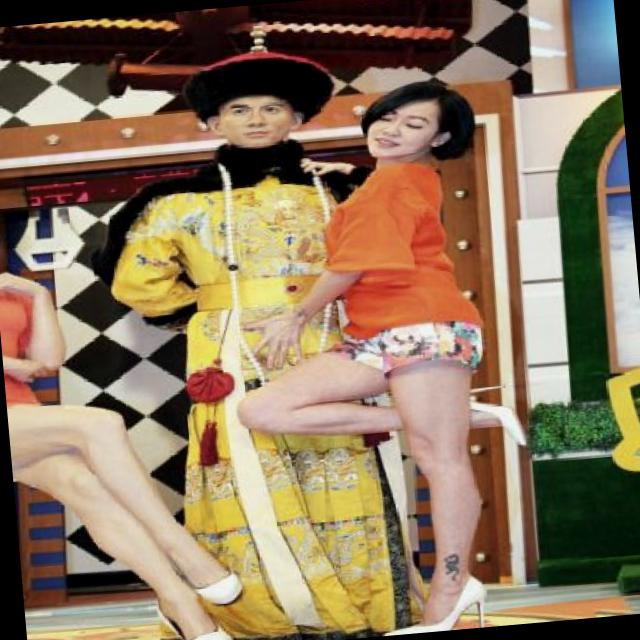Person: (110, 14, 414, 640), (306, 72, 572, 638)
